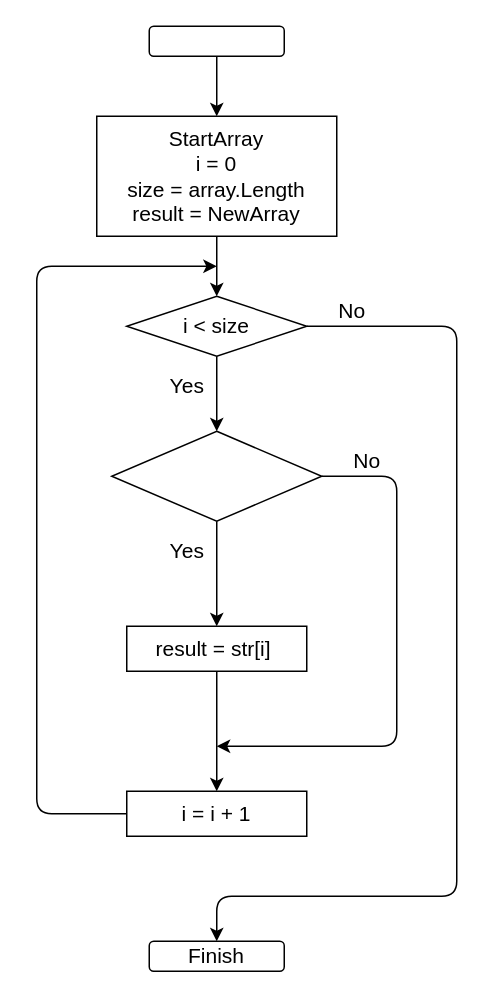
Some shapes in this 495 by 998 pixel diagram are drawn without their labels. The shapes that lost their labels are listed below. From the top down, each one's centre as x and y in pixels, then its label:
At [216,40]: "Start".
At [216,475]: "str[i].Length < 3".
